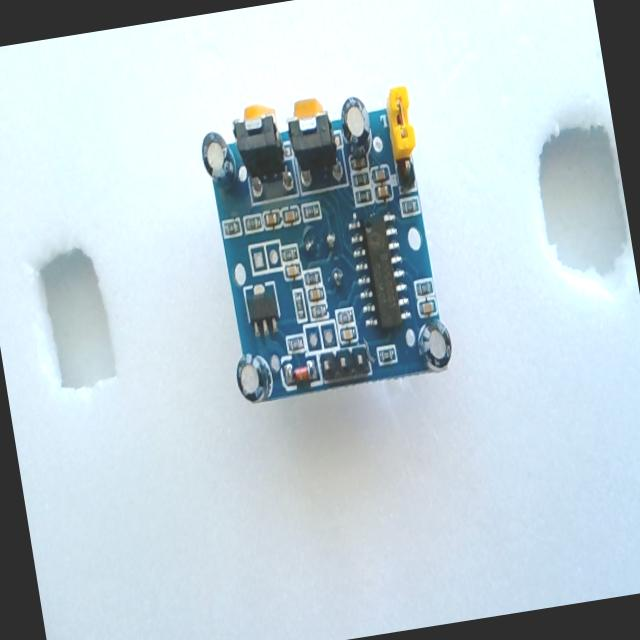Electrolytic capacitor: (336, 94, 376, 158), (233, 349, 276, 406), (198, 126, 237, 188), (415, 315, 456, 373)
IC: (346, 209, 416, 335)
pinheader: (320, 347, 372, 384)
